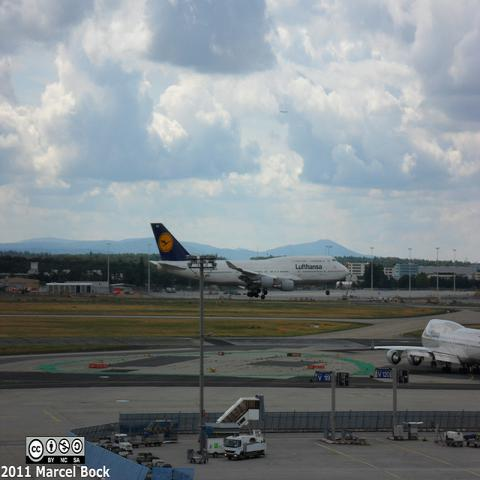car: (137, 452, 160, 464), (109, 446, 128, 458)
truck: (206, 423, 266, 457), (224, 435, 267, 460), (103, 433, 133, 455)
